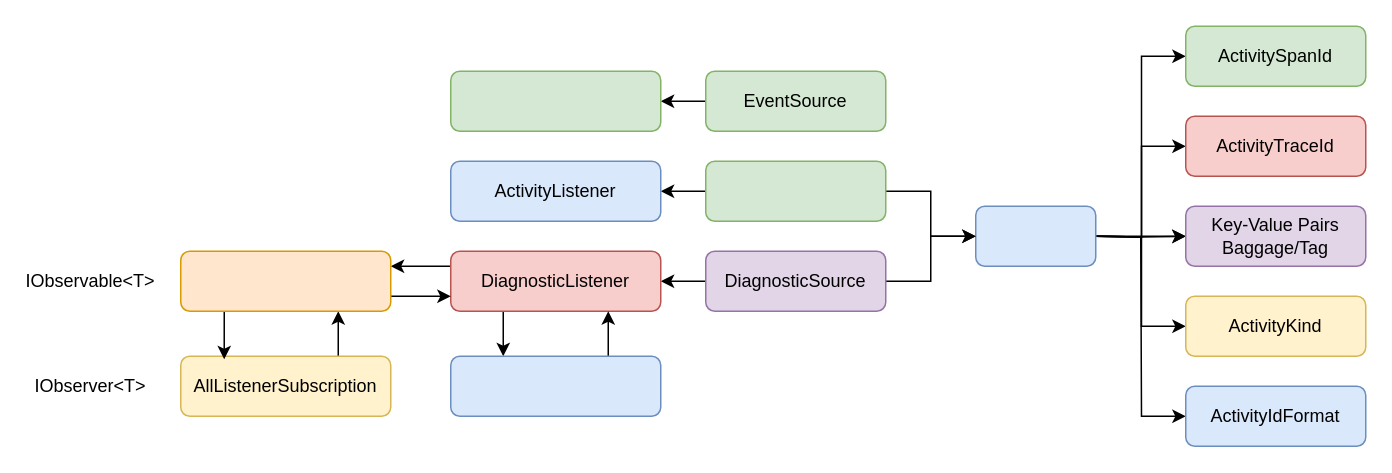
Image size: 1392x473. Some labels were removed from this diagram. The box of each missing label's shape, as (x1, y1, x2, y2) in pixels:
Activity: (974, 205, 1096, 266)
ActivitySource: (704, 160, 886, 221)
AllListenerObservable: (179, 250, 391, 311)
DiagnosticSubscription: (449, 355, 661, 416)
EventListener: (449, 70, 661, 131)
